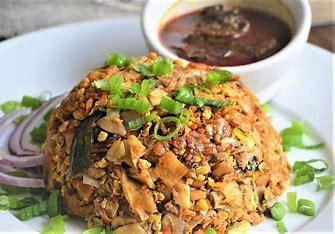Kottu: (38, 49, 295, 232)
